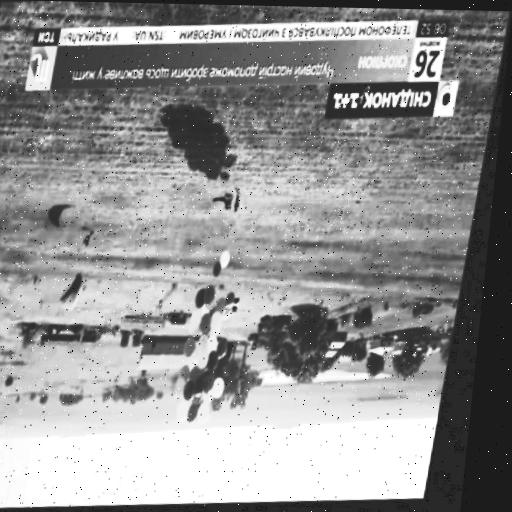balloon: (200, 337, 215, 362), (180, 403, 197, 425), (213, 314, 228, 338), (177, 379, 193, 401), (206, 294, 222, 315), (197, 377, 212, 399), (217, 378, 231, 401), (191, 405, 206, 426), (207, 375, 221, 396), (187, 382, 201, 403), (202, 403, 215, 425), (191, 310, 205, 330), (188, 339, 201, 359), (202, 314, 215, 334), (211, 354, 225, 372), (206, 288, 220, 306), (212, 336, 225, 354), (182, 366, 196, 382), (219, 342, 233, 358), (201, 354, 214, 371), (218, 301, 232, 316), (198, 291, 209, 310), (222, 253, 233, 268), (195, 370, 206, 383), (229, 296, 239, 310), (215, 264, 225, 278), (228, 308, 236, 321), (193, 330, 206, 338)
